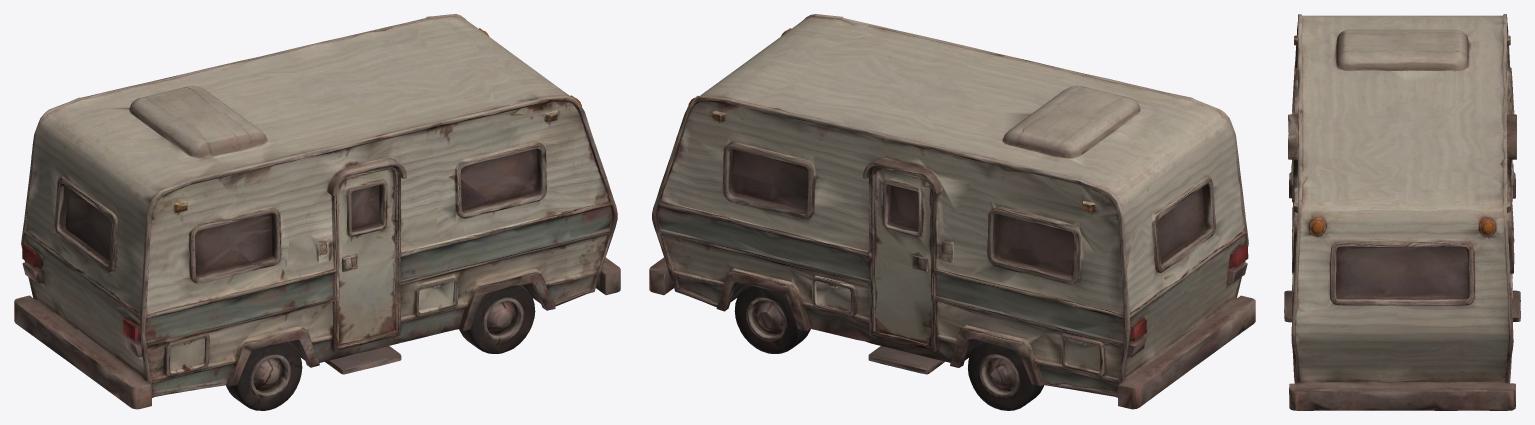
Rendered from house_trailer_e_idle.glb.
The picture shows the model from 3 angles, left to right: view 1: azimuth 30°, elevation 25°; view 2: azimuth 150°, elevation 25°; view 3: azimuth 270°, elevation 25°; orthographic projection. The views are drawn at different scales.
Visible parts, largest first — view 1: tripo_node_28c6536b-b6e8-4358-a95b-056af9f68c52; view 2: tripo_node_28c6536b-b6e8-4358-a95b-056af9f68c52; view 3: tripo_node_28c6536b-b6e8-4358-a95b-056af9f68c52.
Part boxes in pixels (x1=…): tripo_node_28c6536b-b6e8-4358-a95b-056af9f68c52: x1=14, y1=14, x2=620, y2=410; tripo_node_28c6536b-b6e8-4358-a95b-056af9f68c52: x1=649, y1=14, x2=1255, y2=410; tripo_node_28c6536b-b6e8-4358-a95b-056af9f68c52: x1=1284, y1=14, x2=1520, y2=410.
Size of the model in its own units: 6 by 3.08 by 2.72.
1 material, 1 textured.
